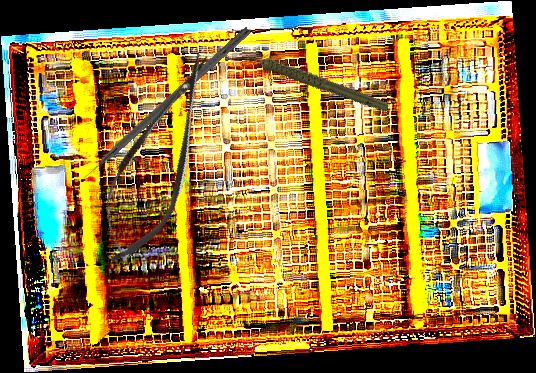Handpiece: (238, 17, 392, 140)
Hook Surgical: (72, 24, 252, 187)
Micro Scissor: (81, 39, 236, 276)
